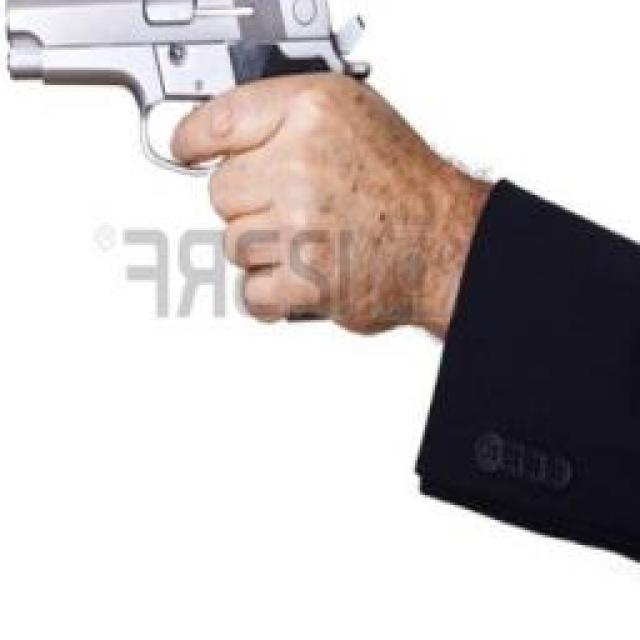pistol: (0, 0, 385, 328)
